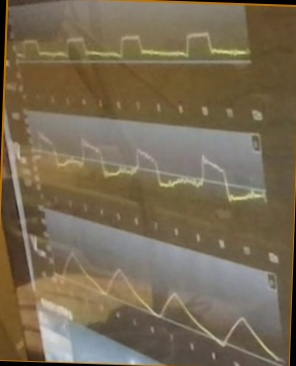Accumulation Flow: (34, 126, 264, 204)
Volume: (55, 249, 280, 360)
